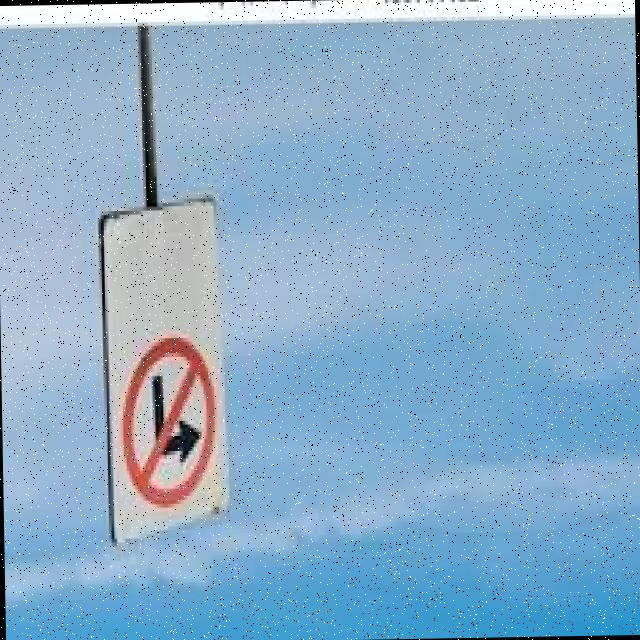do_not_turn_right: (115, 323, 222, 512)
